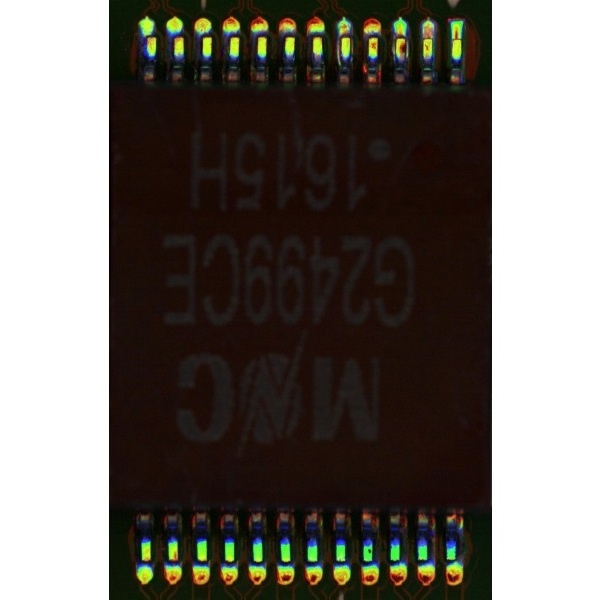Bad_podu: (395, 29, 403, 45), (452, 30, 459, 48), (423, 33, 430, 47)
Bad_qiaojiao: (335, 36, 340, 66)
